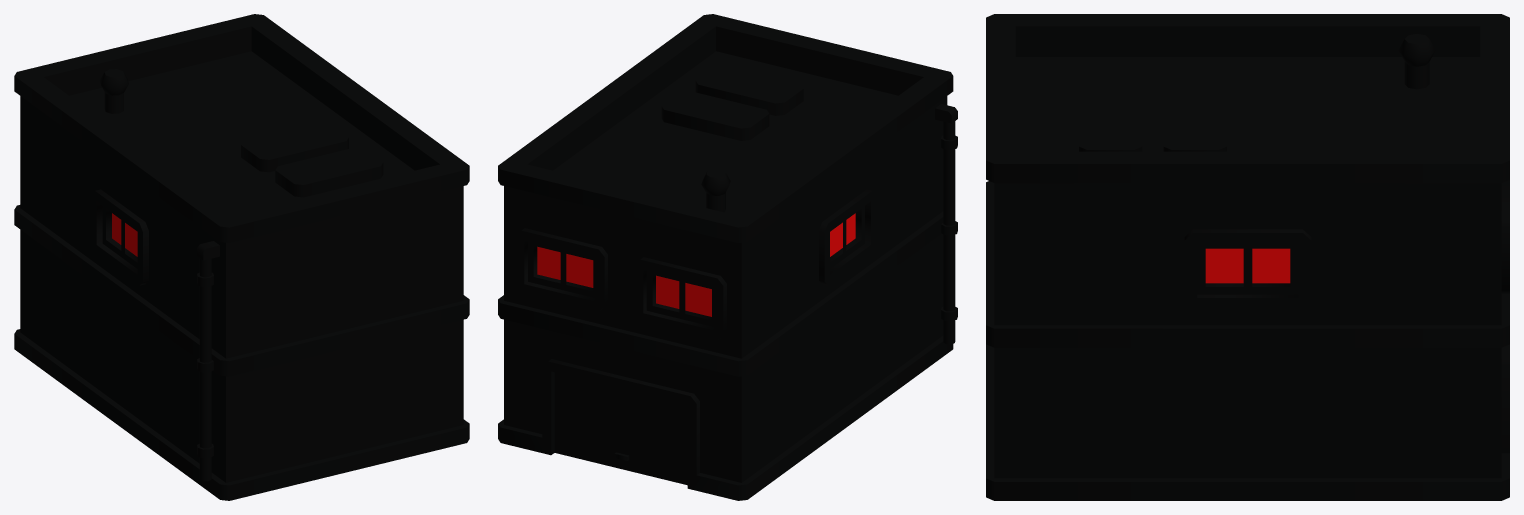
Rendered from building-o.glb.
3 renders of one model, left to right at view 1: azimuth 30°, elevation 25°; view 2: azimuth 150°, elevation 25°; view 3: azimuth 270°, elevation 25°, orthographic. The views are drawn at different scales.
Visible parts, largest first — view 1: building-o; view 2: building-o; view 3: building-o.
Boxes of the visible parts, bbox=[...] form: building-o: bbox=[14, 14, 469, 500]; building-o: bbox=[498, 14, 957, 500]; building-o: bbox=[986, 14, 1509, 500].
Bounding box in the file's own units: 0.8838 × 0.9177 × 1.24.
Materials: 1 (1 with a texture image).
